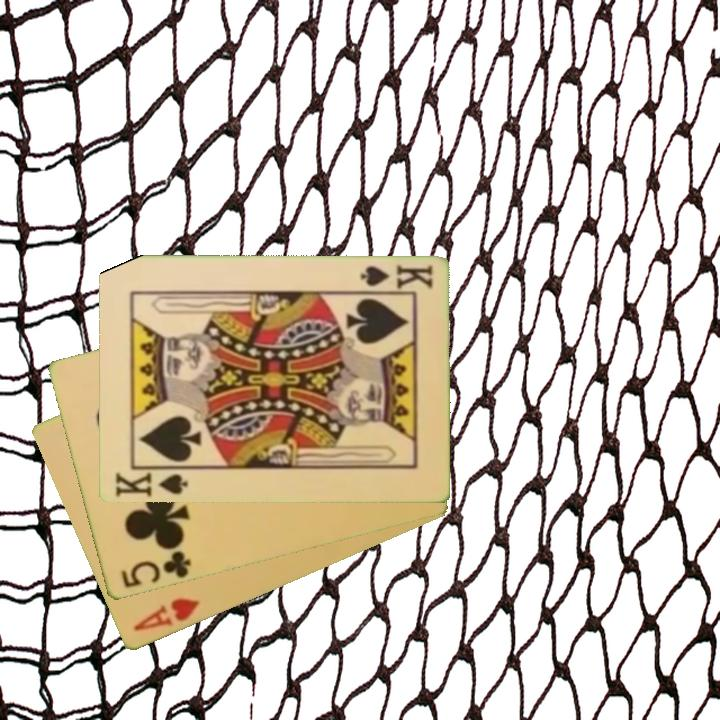5c: (117, 548, 194, 591)
Ah: (130, 594, 202, 635)
Ks: (111, 465, 192, 500), (356, 262, 435, 293)
